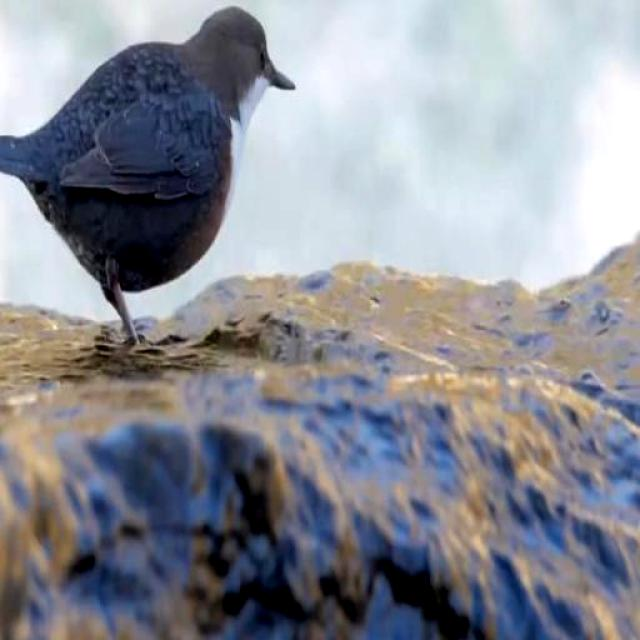airplane: (0, 0, 309, 365)
